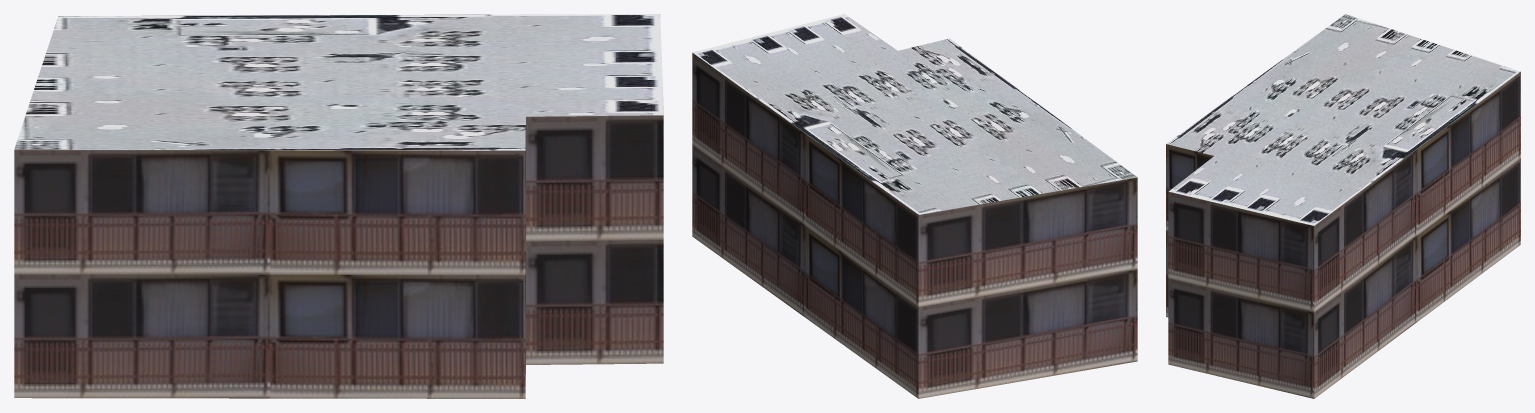
Rendered from ResTex__5152.fbx.
3 renders of one model, left to right at view 1: azimuth 30°, elevation 25°; view 2: azimuth 150°, elevation 25°; view 3: azimuth 270°, elevation 25°, orthographic. The views are drawn at different scales.
Visible parts, largest first — view 1: CityEngineMaterial_6_m, CityEngineMaterial_8_m; view 2: CityEngineMaterial_6_m, CityEngineMaterial_8_m; view 3: CityEngineMaterial_6_m, CityEngineMaterial_8_m.
Boxes of the visible parts, bbox=[...] form: CityEngineMaterial_6_m: bbox=[14, 115, 663, 398]; CityEngineMaterial_8_m: bbox=[14, 14, 663, 150]; CityEngineMaterial_6_m: bbox=[692, 53, 1137, 398]; CityEngineMaterial_8_m: bbox=[692, 14, 1136, 214]; CityEngineMaterial_6_m: bbox=[1166, 72, 1520, 398]; CityEngineMaterial_8_m: bbox=[1166, 14, 1520, 225].
Size of the model in its own units: 15.77 by 6 by 11.15.
2 materials, 2 textured.
